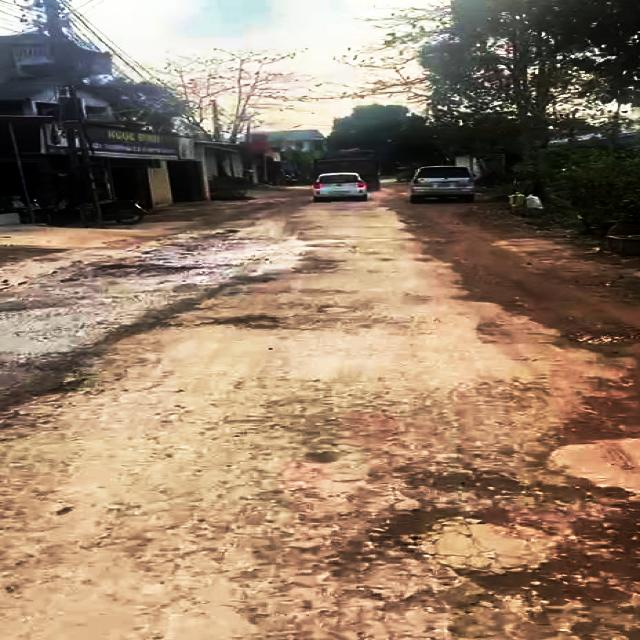pothole: (380, 499, 640, 610), (29, 374, 85, 400), (557, 329, 636, 347), (212, 311, 278, 329)
